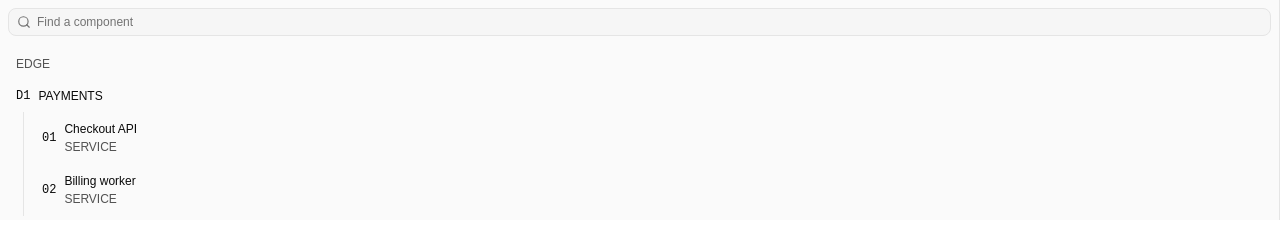
Test case: Sidebar › given a search term, when the clear button is pressed, then every row returns
Step 1. Type "billing" into the field labelled "Find a component" → [650, 22], box [31,8,1270,36]
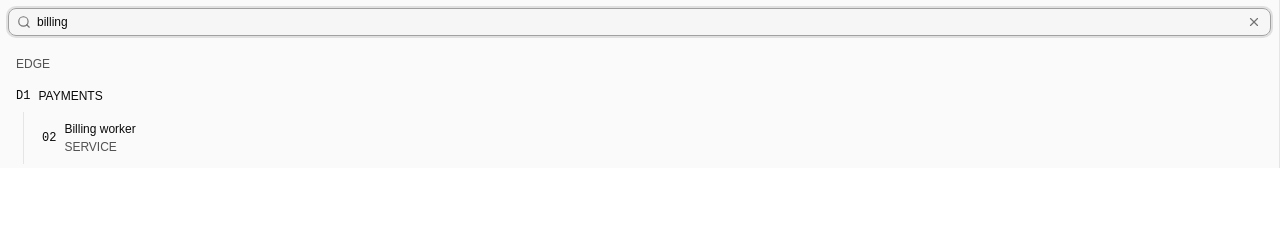
Step 2. Click the button named "Clear search" → [1254, 22], box [1242,10,1266,34]
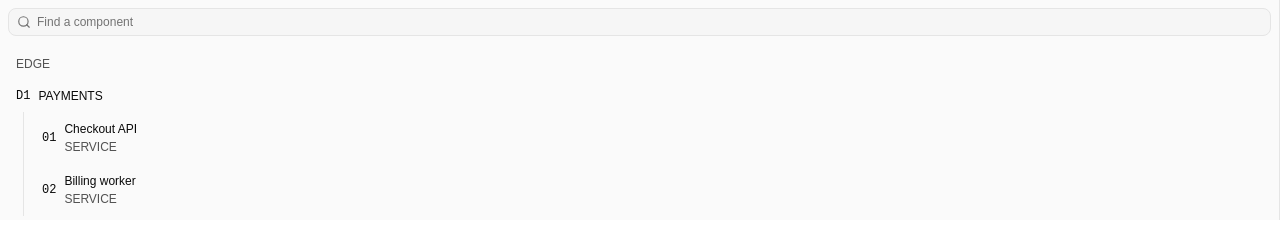
Check: the text "Billing worker" is shown, box [64,173,136,189]
Check: the text "Checkout API" is shown, box [64,121,137,137]
Check: the field labelled "Find a component" is empty, box [31,8,1270,36]
